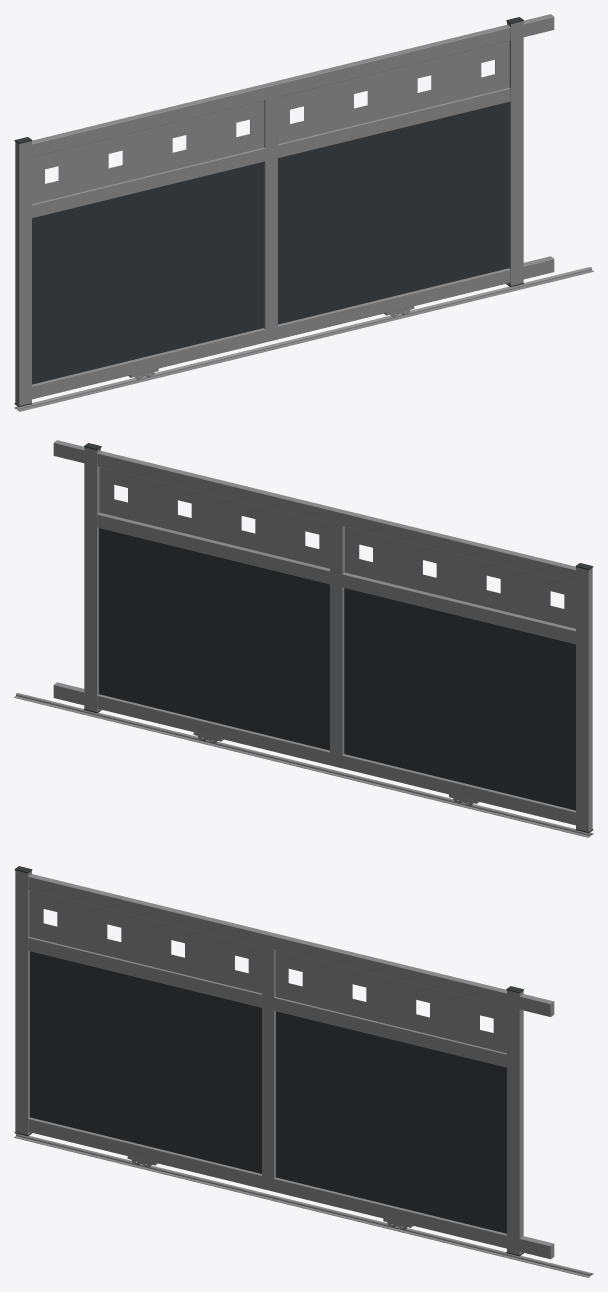
3 views of the same model, one above another, from view 1: azimuth 30°, elevation 25°; view 2: azimuth 150°, elevation 25°; view 3: azimuth 330°, elevation 25° (orthographic).
Visible parts, largest first — view 1: Chapa Alucobond004, Chapa Alucobond033, Rectangle060, Rectangle065, Shape107411795, Shape107411796, Shape107411806, Pilar, Pilar001, Rail, Shape107412810; view 2: Chapa Alucobond004, Chapa Alucobond033, Rectangle060, Rectangle065, Shape107411795, Shape107411796, Shape107411806, Pilar, Pilar001, Rail, Shape107412810; view 3: Chapa Alucobond004, Chapa Alucobond033, Rectangle060, Rectangle065, Shape107411795, Shape107411796, Shape107411806, Pilar001, Pilar, Rail, Shape107412810.
Boxes of the visible parts, bbox=[...] form: Chapa Alucobond004: bbox=[32, 162, 263, 384]; Chapa Alucobond033: bbox=[278, 102, 508, 324]; Rectangle060: bbox=[32, 100, 264, 203]; Rectangle065: bbox=[278, 41, 509, 143]; Shape107411795: bbox=[32, 14, 554, 157]; Shape107411796: bbox=[32, 256, 554, 399]; Shape107411806: bbox=[32, 87, 510, 218]; Pilar: bbox=[15, 141, 31, 405]; Pilar001: bbox=[507, 21, 523, 285]; Rail: bbox=[14, 267, 593, 411]; Shape107412810: bbox=[263, 97, 277, 329]; Chapa Alucobond004: bbox=[344, 588, 575, 810]; Chapa Alucobond033: bbox=[99, 528, 329, 750]; Rectangle060: bbox=[345, 527, 575, 628]; Rectangle065: bbox=[99, 467, 329, 568]; Shape107411795: bbox=[53, 440, 575, 583]; Shape107411796: bbox=[53, 682, 575, 825]; Shape107411806: bbox=[97, 512, 575, 644]; Pilar: bbox=[576, 567, 592, 831]; Pilar001: bbox=[84, 447, 100, 711]; Rail: bbox=[14, 693, 593, 837]; Shape107412810: bbox=[330, 523, 344, 755]; Chapa Alucobond004: bbox=[30, 951, 261, 1173]; Chapa Alucobond033: bbox=[276, 1011, 506, 1233]; Rectangle060: bbox=[29, 890, 261, 993]; Rectangle065: bbox=[275, 950, 506, 1053]; Shape107411795: bbox=[28, 874, 554, 1016]; Shape107411796: bbox=[28, 1117, 554, 1259]; Shape107411806: bbox=[28, 937, 506, 1067]; Pilar001: bbox=[507, 990, 523, 1255]; Pilar: bbox=[15, 870, 31, 1135]; Rail: bbox=[14, 1133, 593, 1277]; Shape107412810: bbox=[262, 946, 275, 1178].
Bounding box in the file's own units: 3600 × 1606 × 60.02.
Materials: 8 (4 with a texture image).
